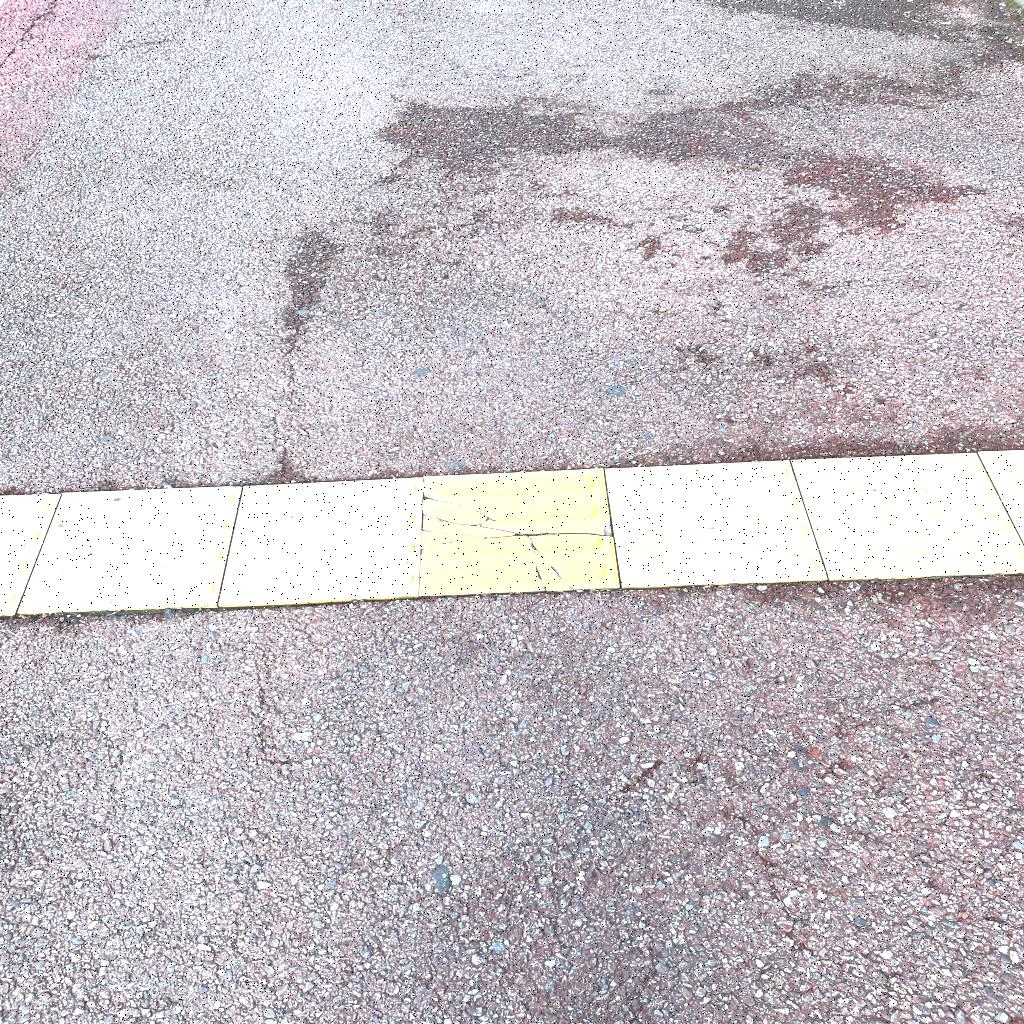Straight block broken: (416, 469, 620, 596)
Straight block normal: (606, 459, 827, 586), (213, 477, 428, 606)
